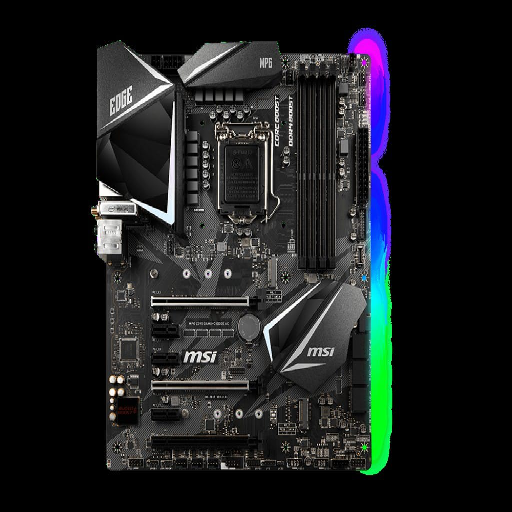CPU: (214, 122, 272, 226)
GPU: (148, 289, 280, 310), (149, 377, 258, 395)
MOTHERBOARD: (97, 34, 372, 475)
RAM: (290, 60, 344, 273)
SSD: (226, 348, 246, 373), (264, 257, 280, 288), (298, 399, 310, 431)
